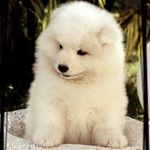puppy: (24, 1, 129, 149)
